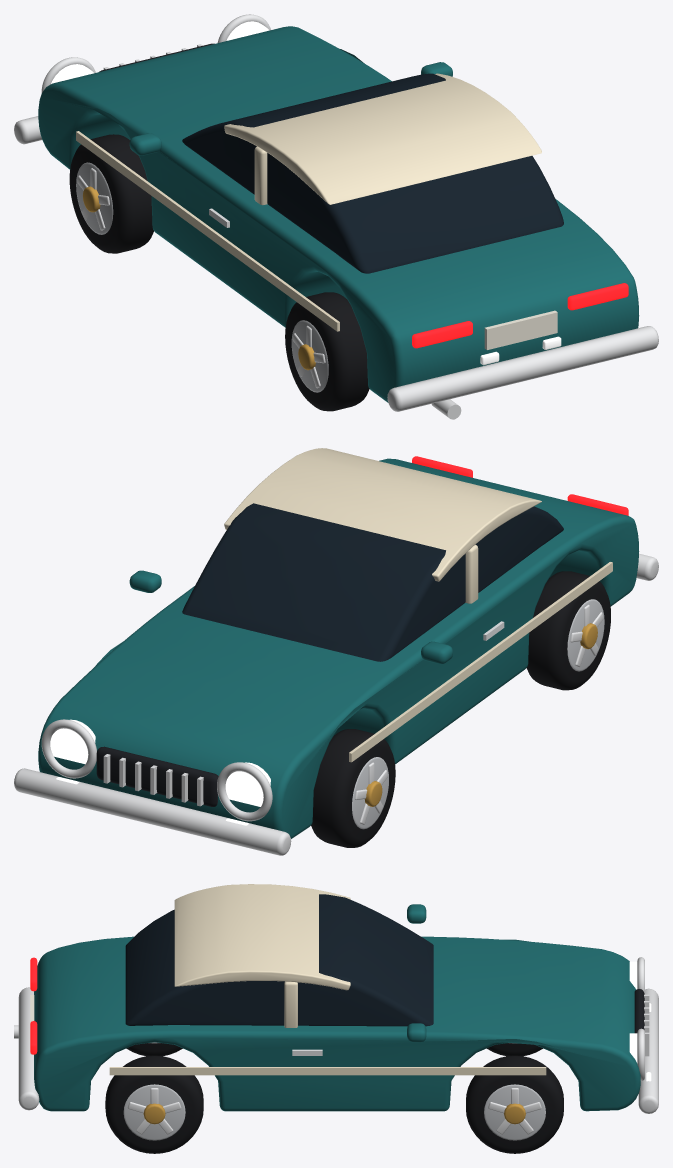
The model's file is car.glb.
3 renders of one model, top to bottom at view 1: azimuth 30°, elevation 25°; view 2: azimuth 150°, elevation 25°; view 3: azimuth 270°, elevation 25°, orthographic. The views are drawn at different scales.
Visible parts, largest first — view 1: body_mesh, wheel_RL_mesh, wheel_FL_mesh; view 2: body_mesh, wheel_FL_mesh, wheel_RL_mesh; view 3: body_mesh, wheel_FR_mesh, wheel_RR_mesh, wheel_RL_mesh, wheel_FL_mesh.
Boxes of the visible parts, x1,y1,x2,y2 form: body_mesh: (14,14,658,419); wheel_RL_mesh: (285,292,369,411); wheel_FL_mesh: (69,134,153,253); body_mesh: (14,448,658,855); wheel_FL_mesh: (311,729,395,847); wheel_RL_mesh: (526,571,610,690); body_mesh: (14,884,658,1113); wheel_FR_mesh: (466,1055,563,1153); wheel_RR_mesh: (105,1055,203,1153); wheel_RL_mesh: (126,1042,182,1056); wheel_FL_mesh: (487,1043,542,1056).
Bounding box in the file's own units: 2.24 × 1.4 × 4.72.
